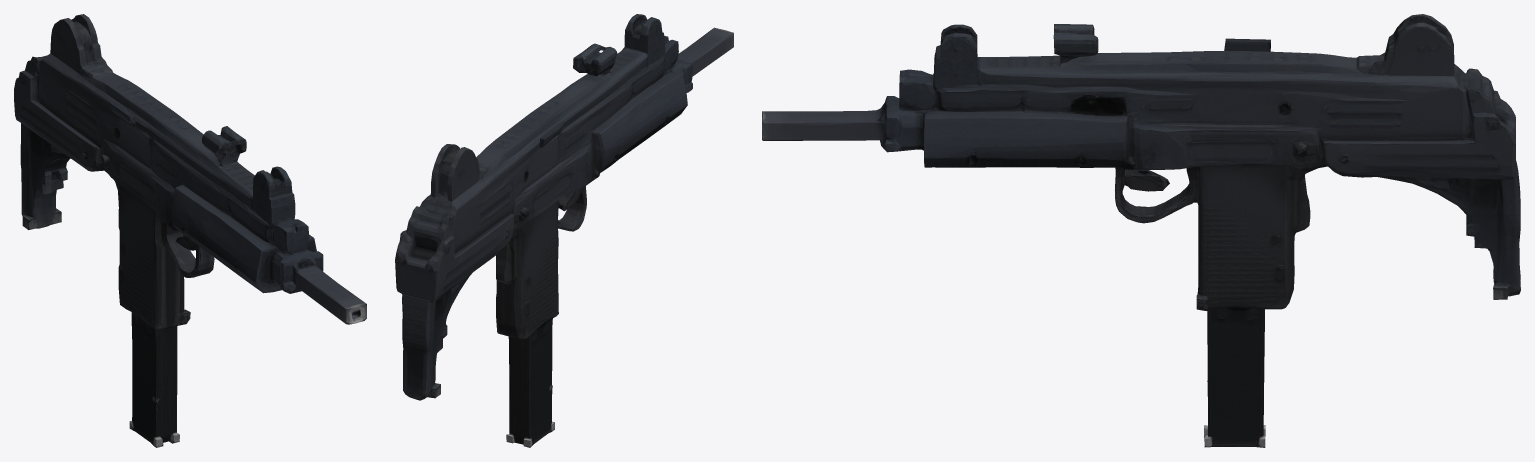
Rendered from uzi.glb.
3 renders of one model, left to right at view 1: azimuth 30°, elevation 25°; view 2: azimuth 150°, elevation 25°; view 3: azimuth 270°, elevation 25°, orthographic. The views are drawn at different scales.
Visible parts, largest first — view 1: world; view 2: world; view 3: world.
Part boxes in pixels (bbox=[...]): world: bbox=[14, 14, 366, 447]; world: bbox=[395, 14, 733, 447]; world: bbox=[762, 14, 1520, 447].
Bounding box in the file's own units: 0.1142 × 0.614 × 1.
Materials: 1 (1 with a texture image).
